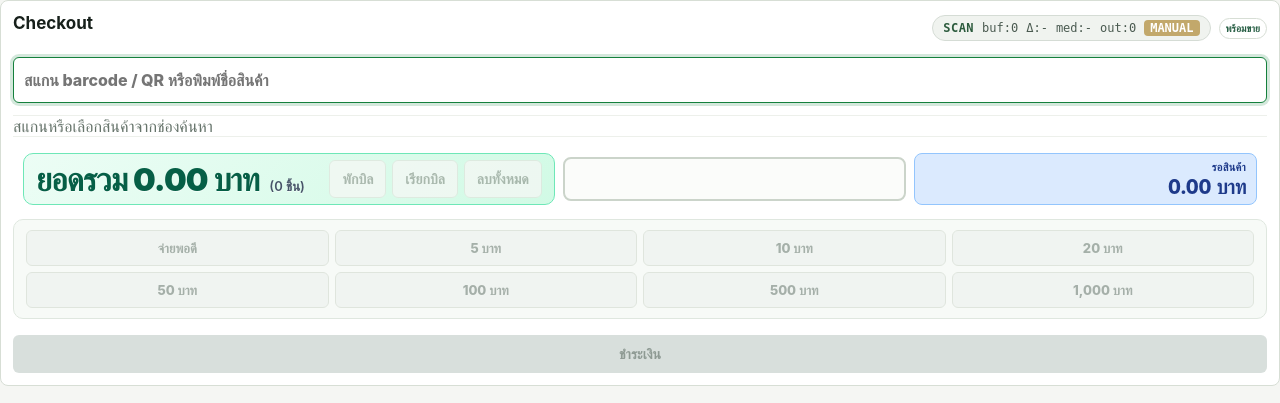
PosCheckoutPage › shows stock before/after columns in the product dropdown
Type "Drinking" into the dropdown named "สแกนหรือค้นหาสินค้า". click: (640, 80)
box: [13, 57, 1267, 103]
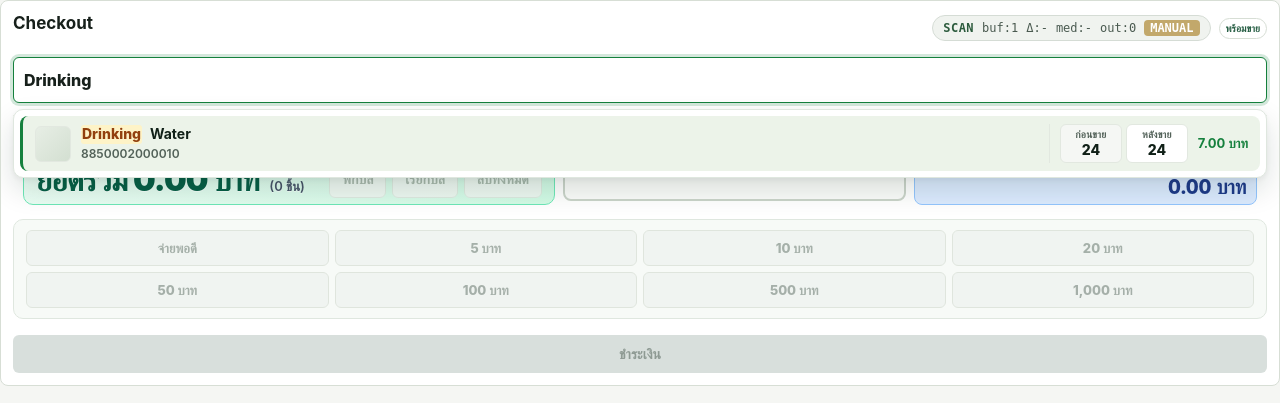
Expected: the option "Drinking Water 8850002000010 ก่อนขาย 24 หลังขาย 24 7.00 บาท" is shown, [20, 116, 1260, 171]
